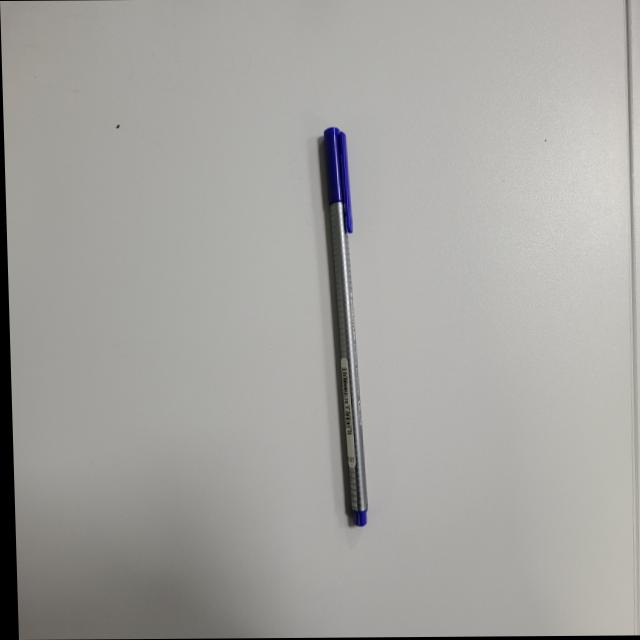caneta: (303, 109, 383, 525)
